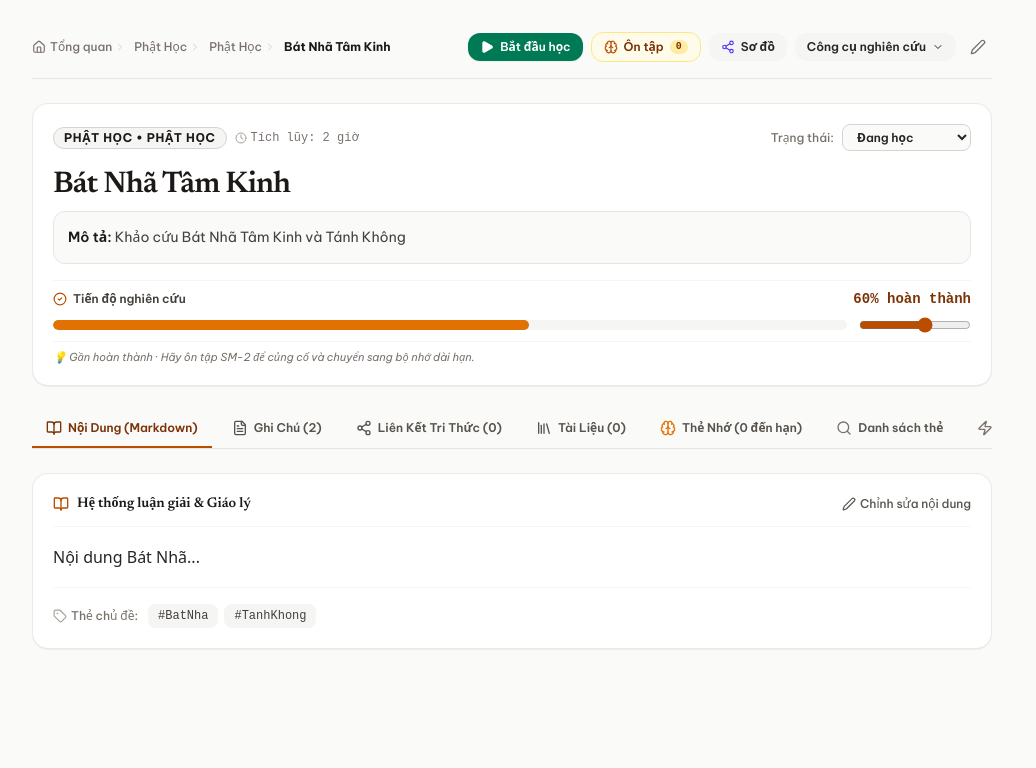
Test case: Option A: Topic-scoped Research Notes in TopicDetail › 1. Only displays notes scoped to the active topic (including multi-topic links)
Click the button with test id "tab-btn-notes" at (277, 429), box [218,410,336,448]
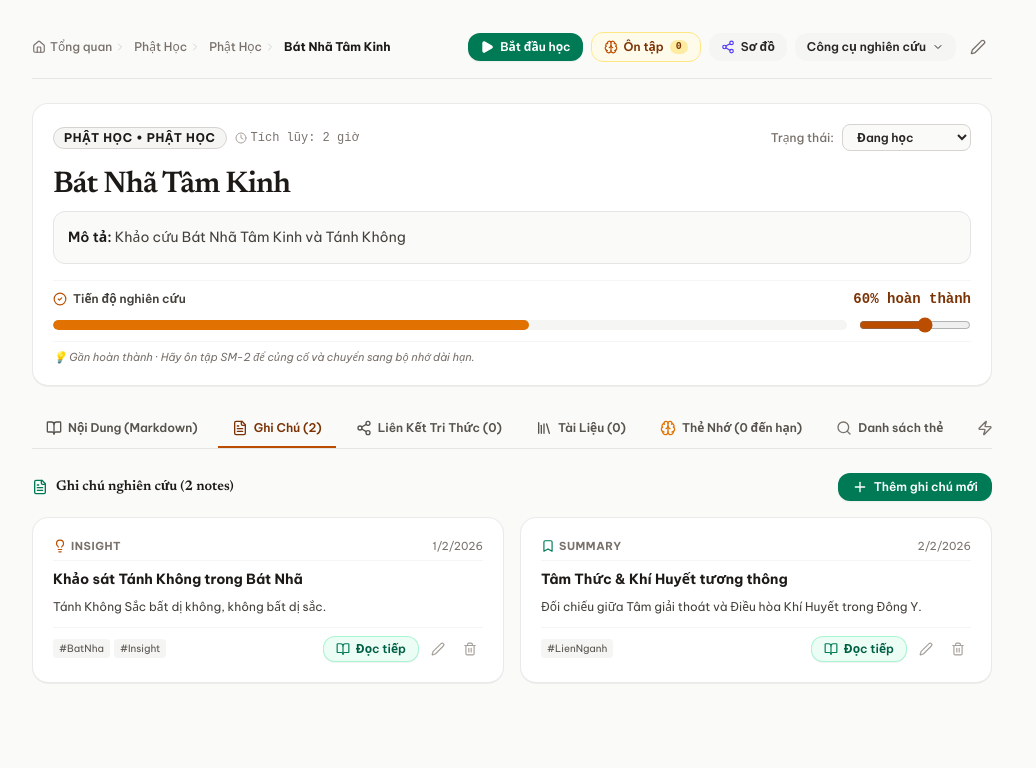
Check: the heading "Khảo sát Tánh Không trong Bát Nhã" is shown, box [53,570,303,588]
Check: the heading "Tâm Thức & Khí Huyết tương thông" is shown, box [541,570,788,588]
